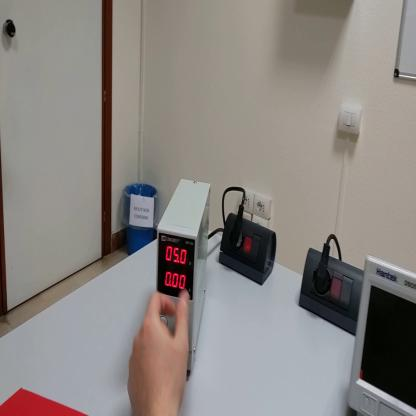hand: (127, 291, 191, 415)
oscilloscope: (348, 250, 415, 413)
power supply: (157, 177, 214, 372)
register: (1, 385, 88, 416)
socket: (301, 245, 367, 335), (221, 213, 277, 287)
